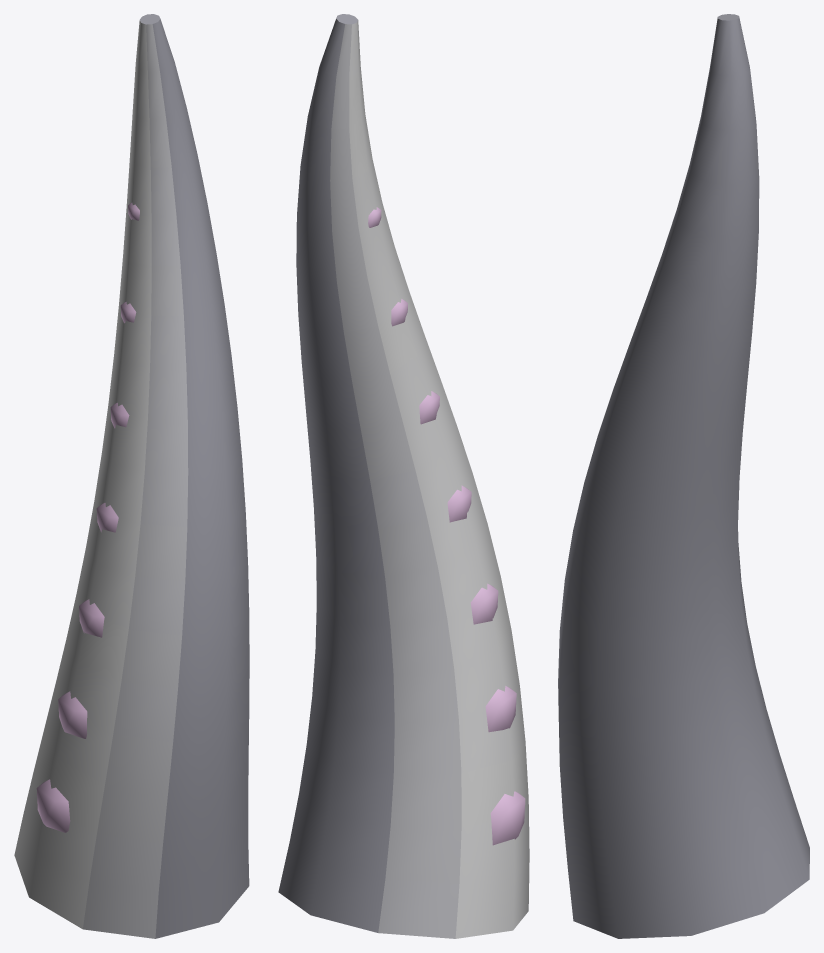
The model's file is vfx_tentacle.glb.
The picture shows the model from 3 angles, left to right: view 1: azimuth 30°, elevation 25°; view 2: azimuth 150°, elevation 25°; view 3: azimuth 270°, elevation 25°; orthographic projection. The views are drawn at different scales.
Visible parts, largest first — view 1: fx; view 2: fx; view 3: fx.
Part boxes in pixels (x1,y1,x2,y2): fx: (14,14,249,938); fx: (278,14,529,938); fx: (558,14,809,938).
Bounding box in the file's own units: 0.7899 × 3.13 × 0.7864.
